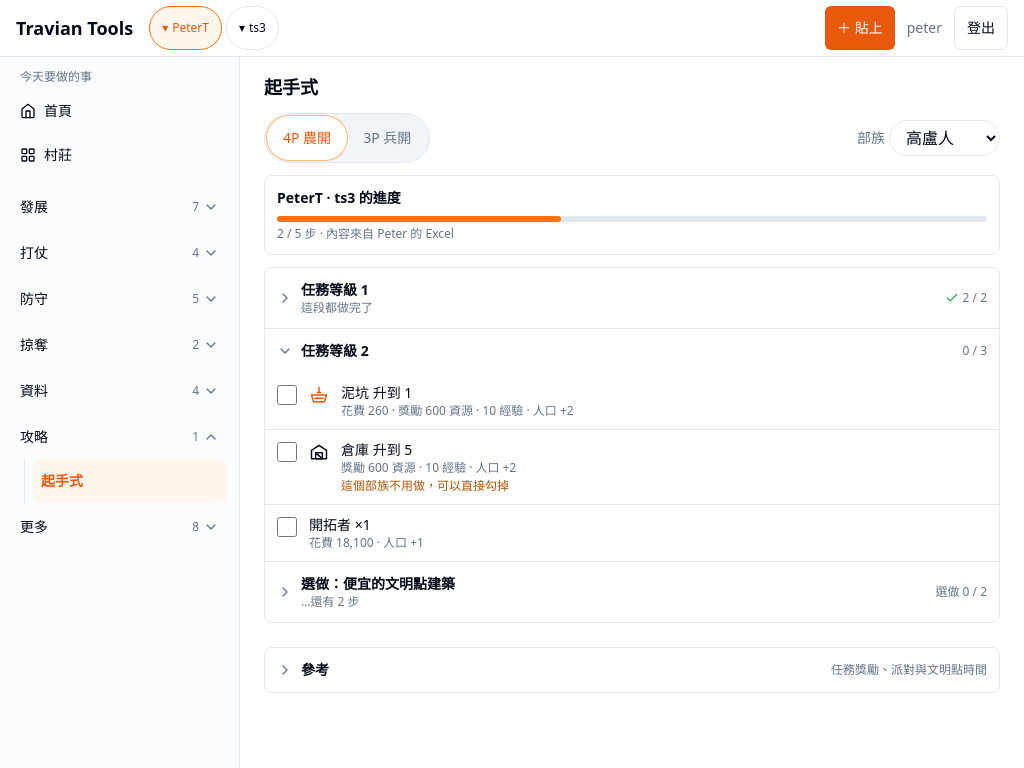
Scenario: 起手式清單 (P0-10) › the tribe filter only changes tribe-dependent fields
Expected: the text "2 / 5 步 · 內容來自 Peter 的 Excel" is shown, left=277, top=225, right=454, bottom=242
Expected: the list item named "完成：開拓者 ×1" shows "花費 18,100", left=309, top=534, right=424, bottom=551
Select "日耳曼人" in the dropdown labelled "部族" at (944, 138), box left=889, top=120, right=1000, bottom=156
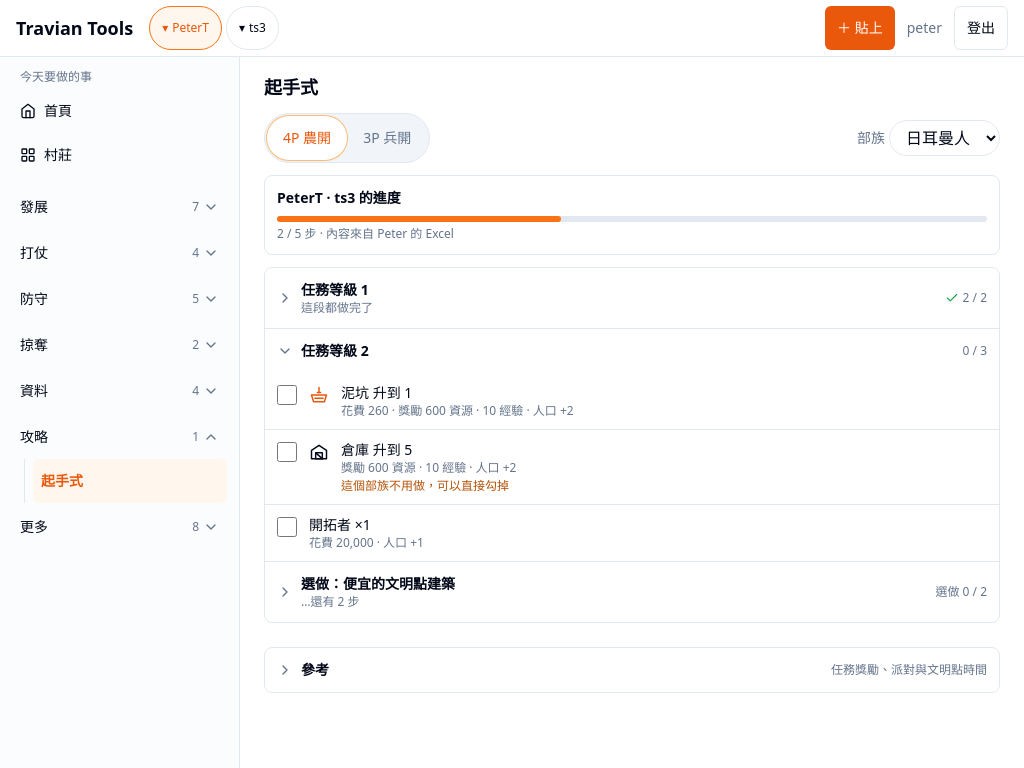
Now the list item named "完成：開拓者 ×1" shows "花費 20,000", box left=309, top=534, right=424, bottom=551
Select "羅馬人" in the dropdown labelled "部族" at (944, 138), box left=889, top=120, right=1000, bottom=156
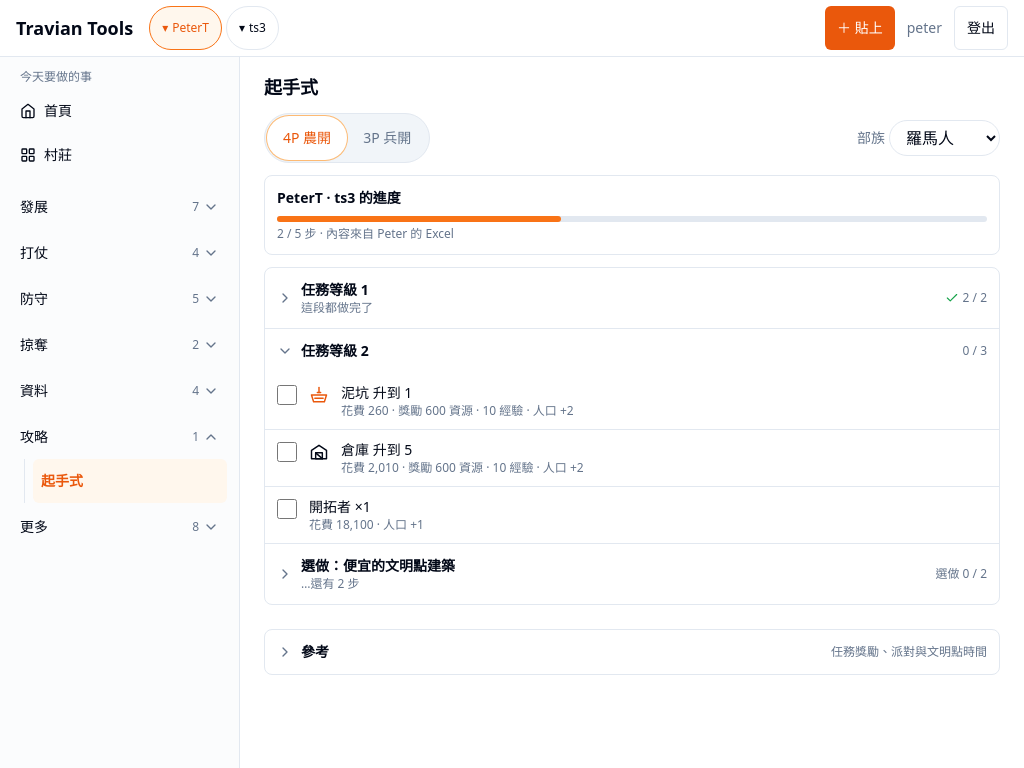
Now the list item named "完成：倉庫 升到 5" shows "花費 2,010", box left=341, top=459, right=584, bottom=476
Now the list item named "完成：倉庫 升到 5" no longer shows "不用做", box left=265, top=429, right=999, bottom=486
Select "維京人" in the dropdown labelled "部族" at (944, 138), box left=889, top=120, right=1000, bottom=156
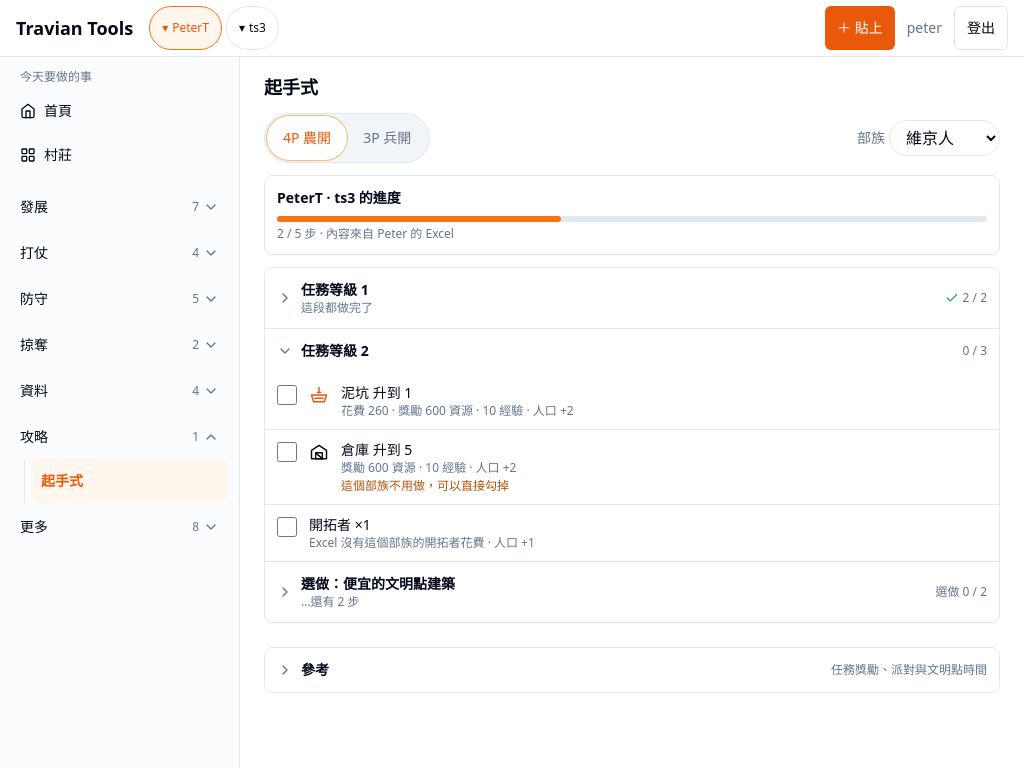
Expected: the text "2 / 5 步 · 內容來自 Peter 的 Excel" is shown, left=277, top=225, right=454, bottom=242
Now the list item named "完成：開拓者 ×1" shows "Excel 沒有這個部族的開拓者花費", box left=309, top=534, right=535, bottom=551
